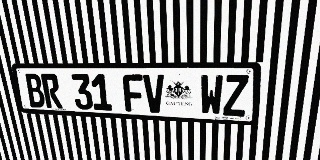1: (89, 74, 112, 111)
3: (71, 74, 93, 110)
B: (24, 73, 46, 108)
F: (122, 74, 145, 112)
R: (40, 74, 63, 109)
V: (143, 74, 165, 113)
W: (200, 75, 223, 116)
Z: (223, 75, 249, 117)
